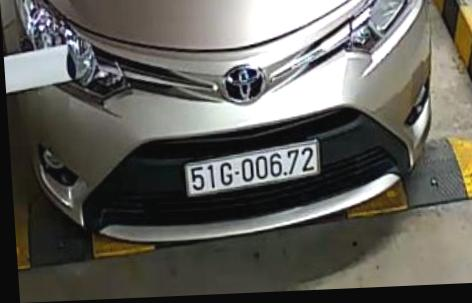License_Plate: (176, 137, 326, 199)
